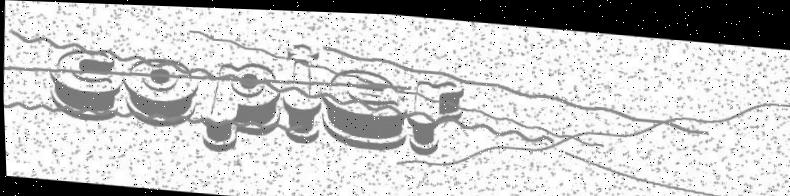c: (49, 42, 123, 126)
e: (313, 52, 412, 160)
i: (275, 27, 330, 152)
o: (114, 49, 205, 131)
p: (196, 45, 287, 162)
r: (403, 67, 477, 162)
